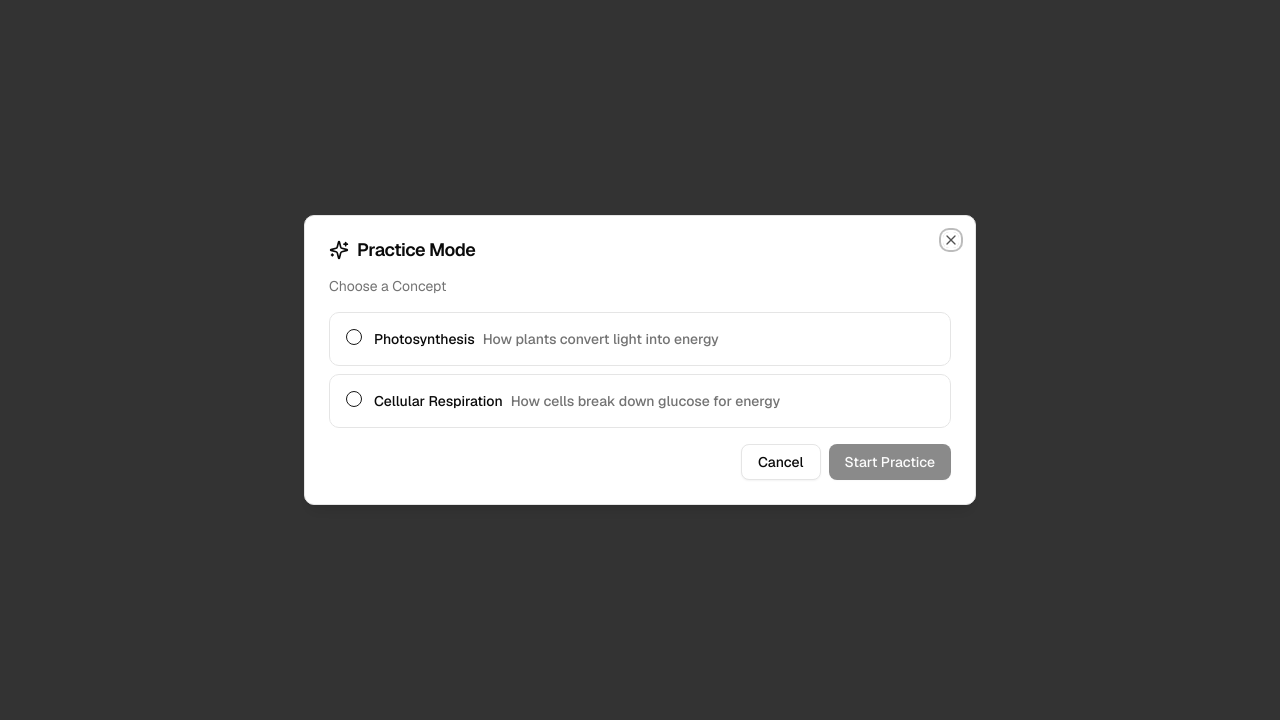
Scenario: PracticeModal › transitions to chat phase after selecting concept and clicking start
Expected: the text "Photosynthesis" is shown, [374,332,475,346]
Click the radio button named "photosynthesis" next to "Photosynthesis". click: (354, 337)
box: [346,329,362,345]
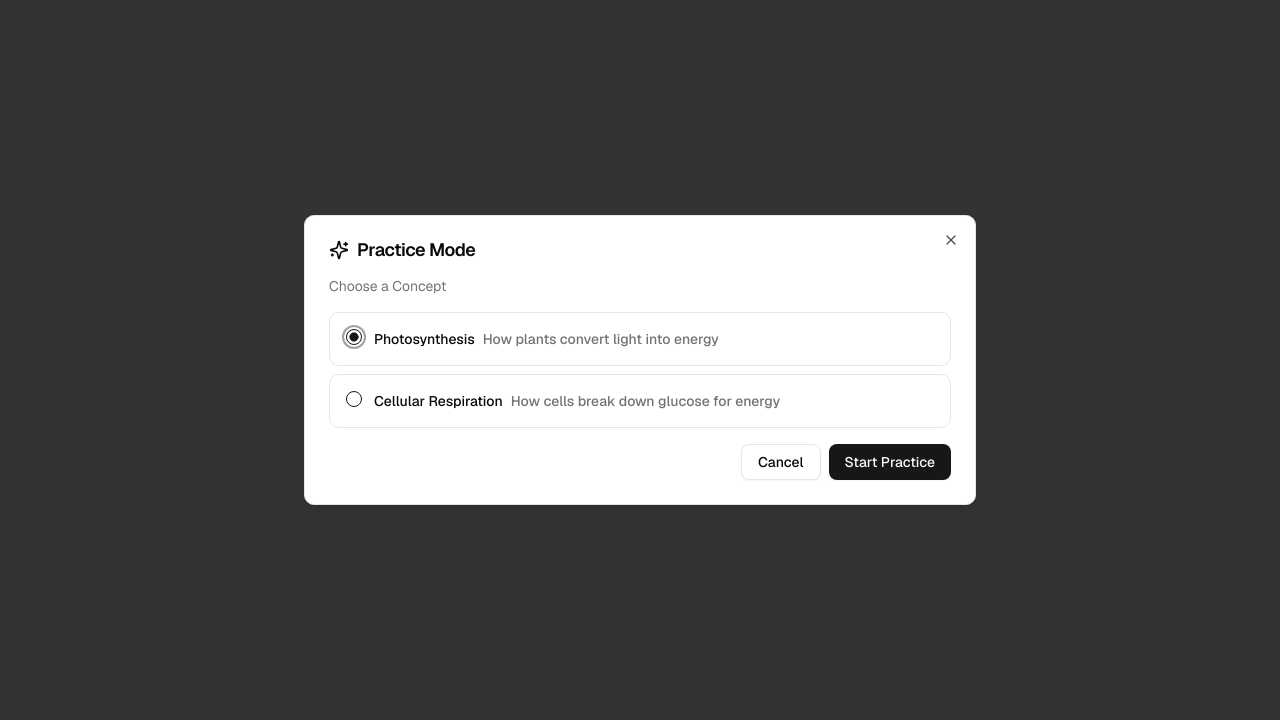
Click the button "Start Practice". click: (890, 462)
box: [828,444,951,480]
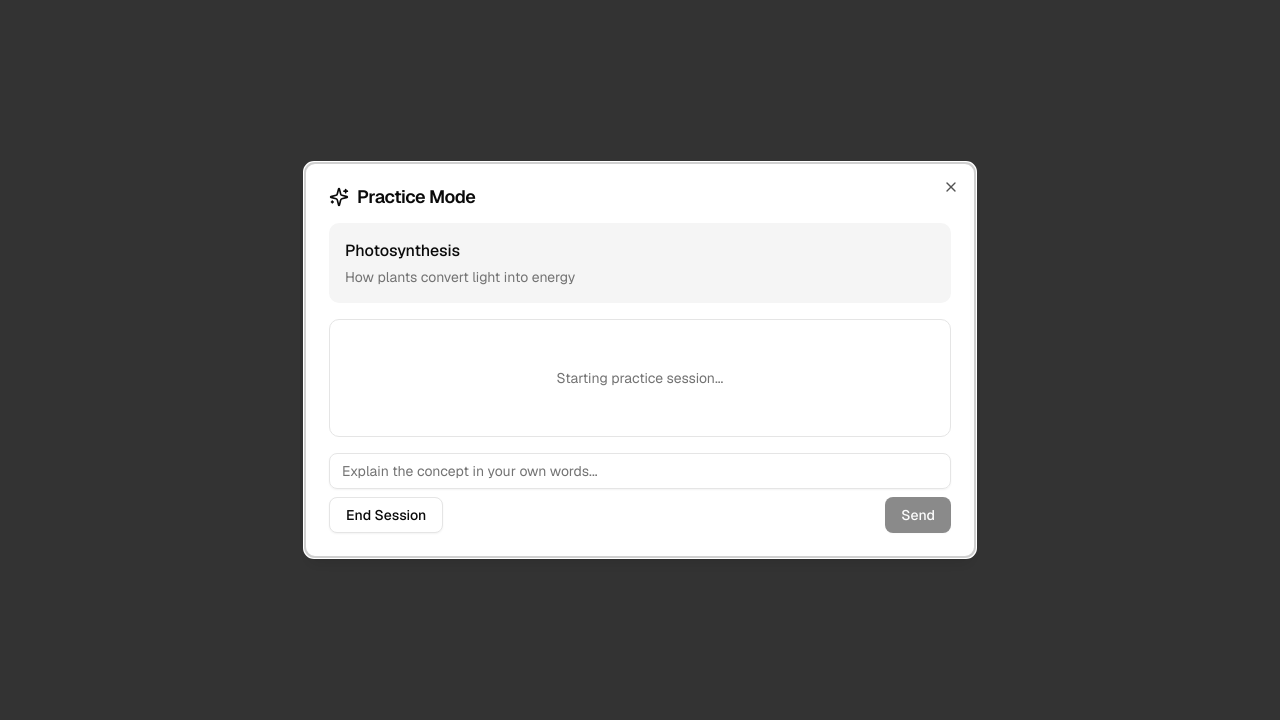
Expected: the field with placeholder "Explain the concept in your own words..." is shown, [329,453,951,489]
